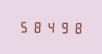eight: (31, 19, 43, 33), (70, 20, 82, 34)
five: (18, 19, 30, 33)
four: (44, 19, 56, 34)
nine: (57, 20, 69, 34)
